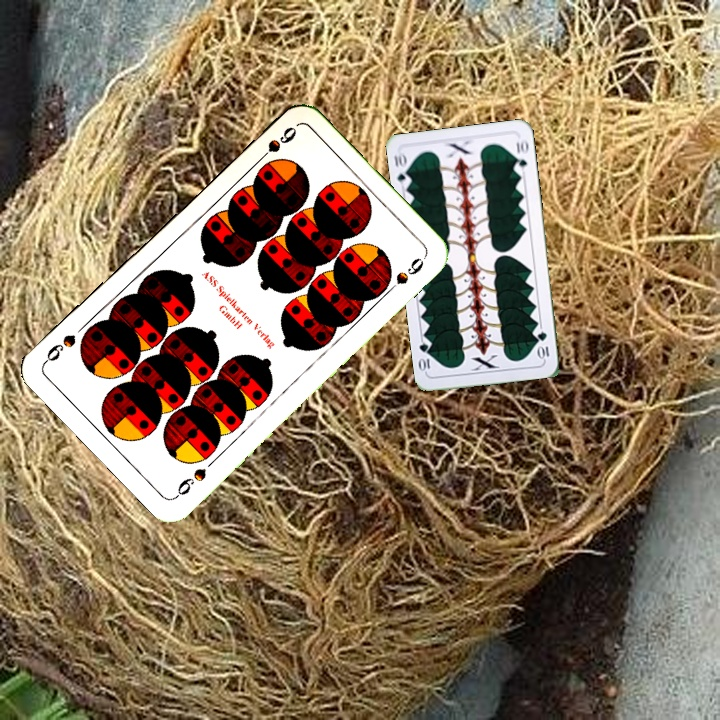G10: (390, 148, 413, 189), (534, 327, 552, 362)
S9: (251, 122, 299, 167), (171, 464, 209, 501)
